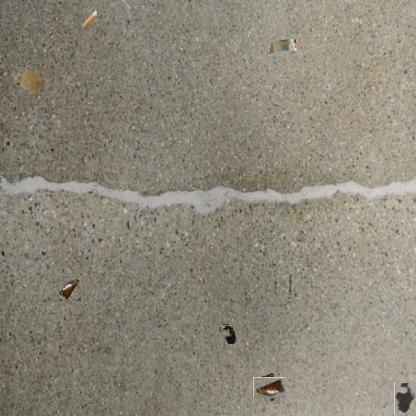dirty: (256, 374, 283, 401), (58, 276, 82, 301), (268, 38, 298, 56), (82, 8, 102, 28), (220, 324, 236, 344)
liquid: (12, 64, 44, 96), (394, 384, 415, 416)
